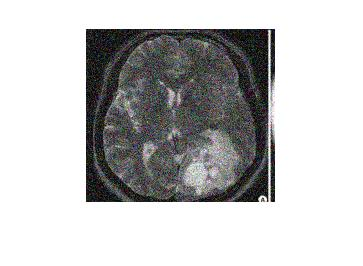Brain_Cancer: (183, 128, 241, 195)
